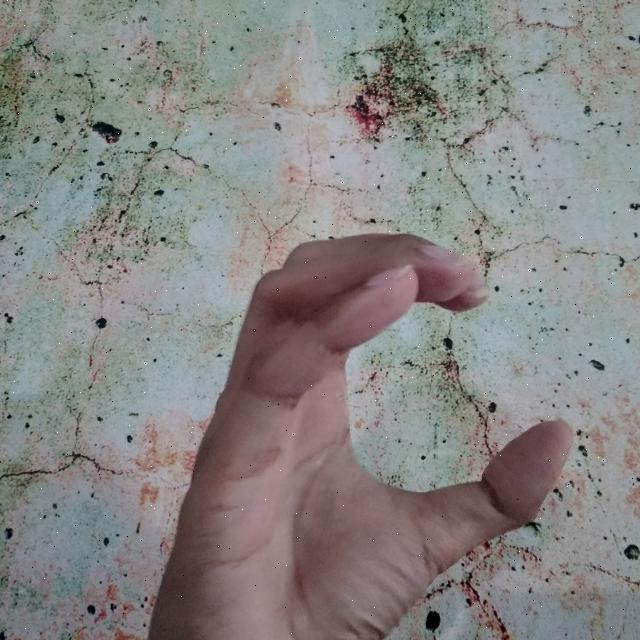C: (147, 224, 575, 640)
